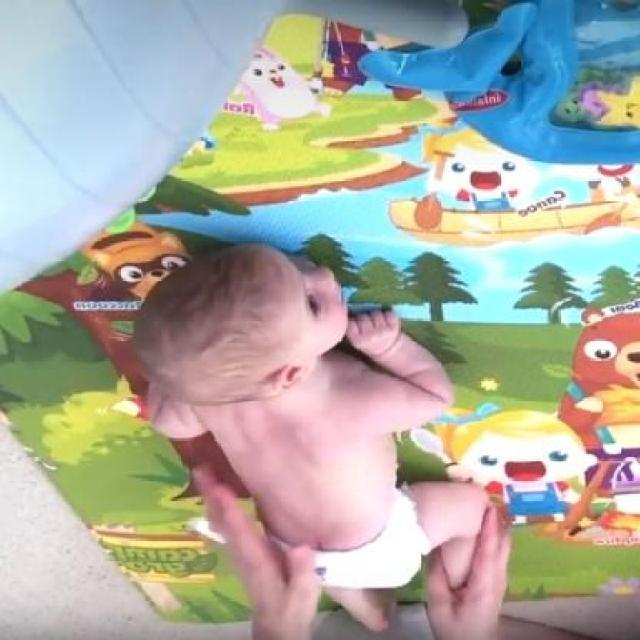baby: (128, 240, 512, 632)
